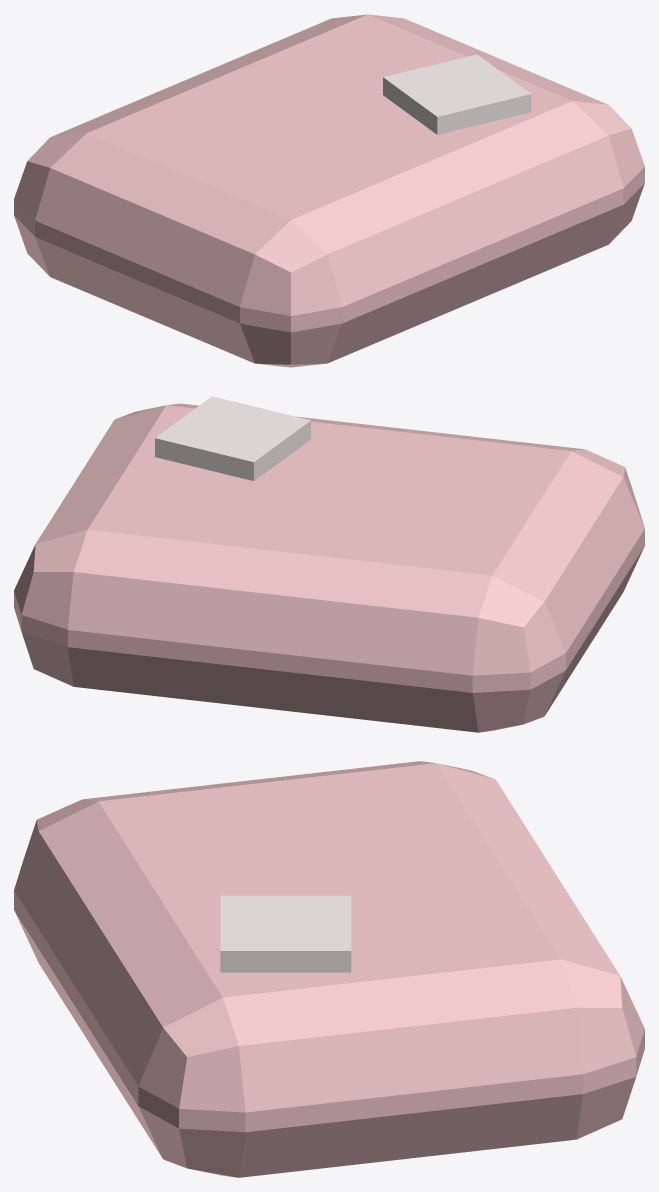
Rendered from pork_held.gltf.
The picture shows the model from 3 angles, top to bottom: view 1: azimuth 30°, elevation 25°; view 2: azimuth 150°, elevation 25°; view 3: azimuth 270°, elevation 25°; orthographic projection. The views are drawn at different scales.
Parts seen in each view (by area): view 1: animals_pork_held; view 2: animals_pork_held; view 3: animals_pork_held.
Boxes of the visible parts, x1=… form: animals_pork_held: x1=14, y1=14, x2=644, y2=367; animals_pork_held: x1=14, y1=396, x2=644, y2=732; animals_pork_held: x1=14, y1=761, x2=644, y2=1177.
Bounding box in the file's own units: 0.1656 × 0.0505 × 0.1444.
